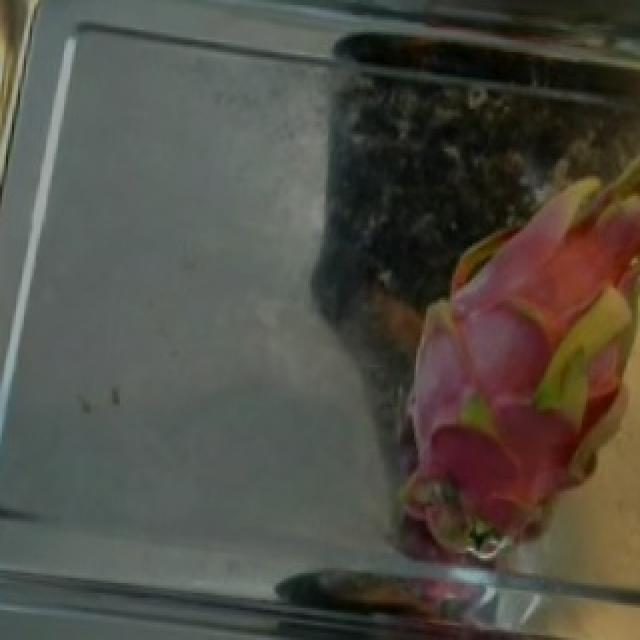fruit: (340, 169, 638, 590)
